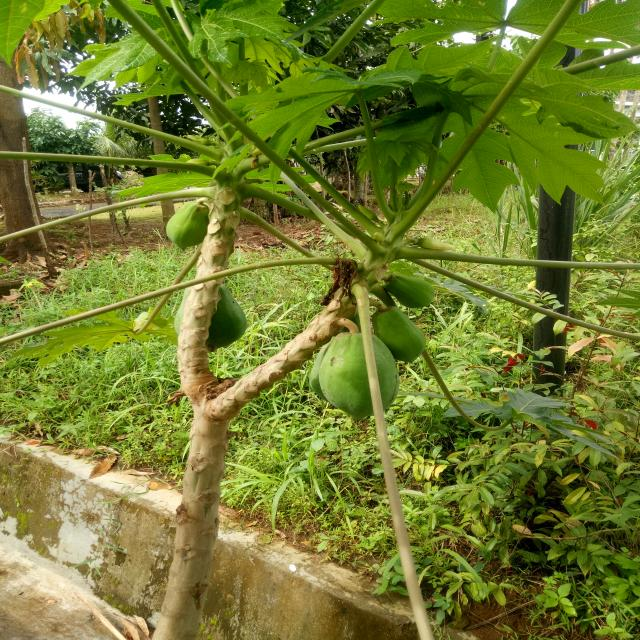Pepaya unrippen: (324, 332, 398, 420), (376, 308, 427, 366), (166, 199, 210, 255), (209, 293, 250, 353)
